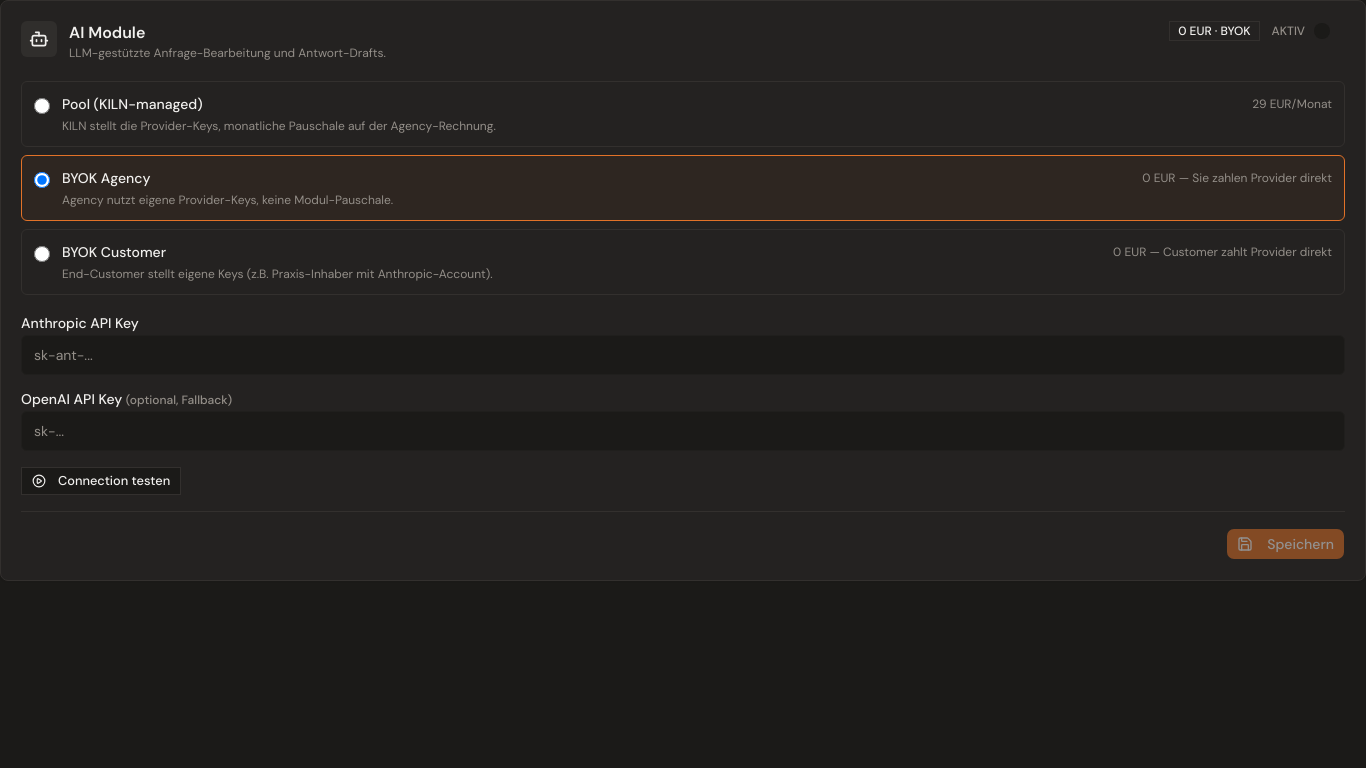
Test case: ModuleCard validation on save › surfaces server error in the UI when POST fails
Type "sk-ant-test" into the password field labelled "Anthropic API Key" at (683, 355), box [21,335,1345,375]
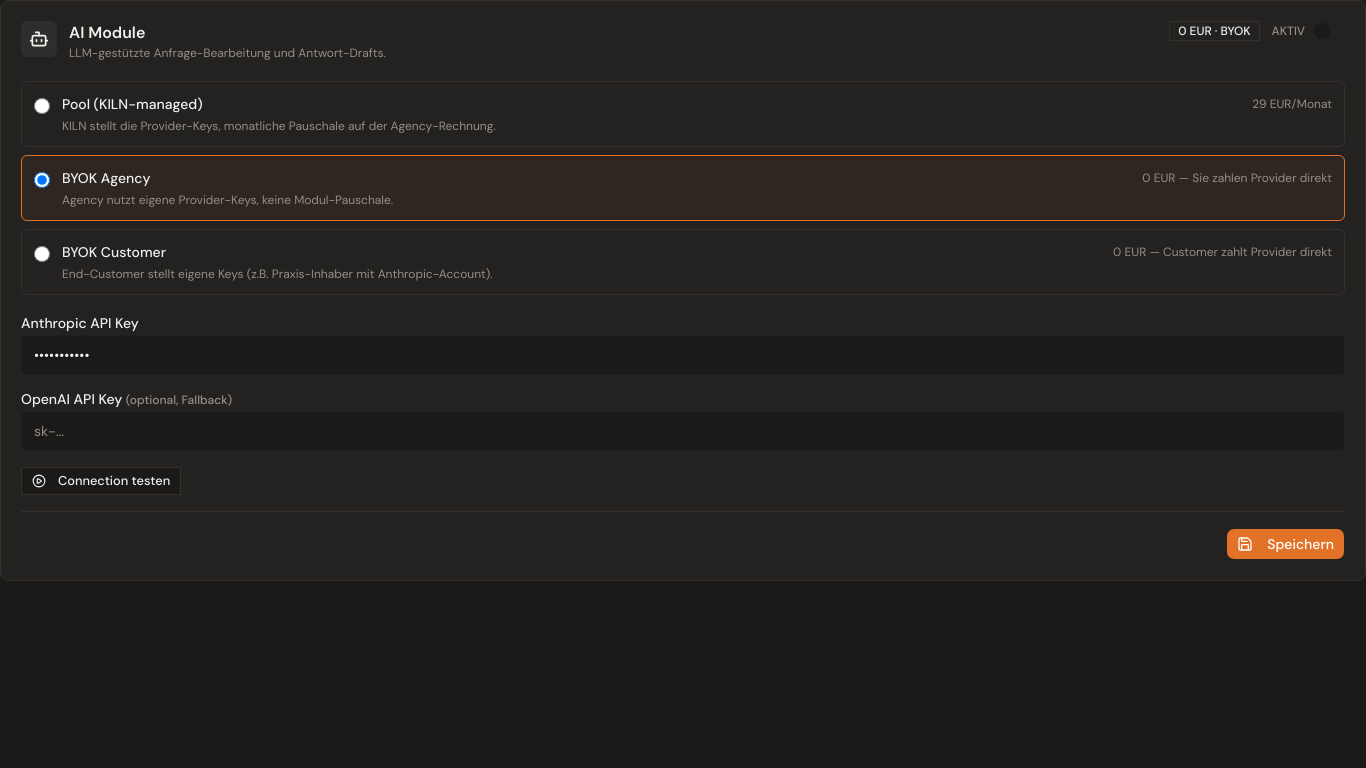
Click the button "Speichern" at (1286, 544), box [1226,528,1345,560]
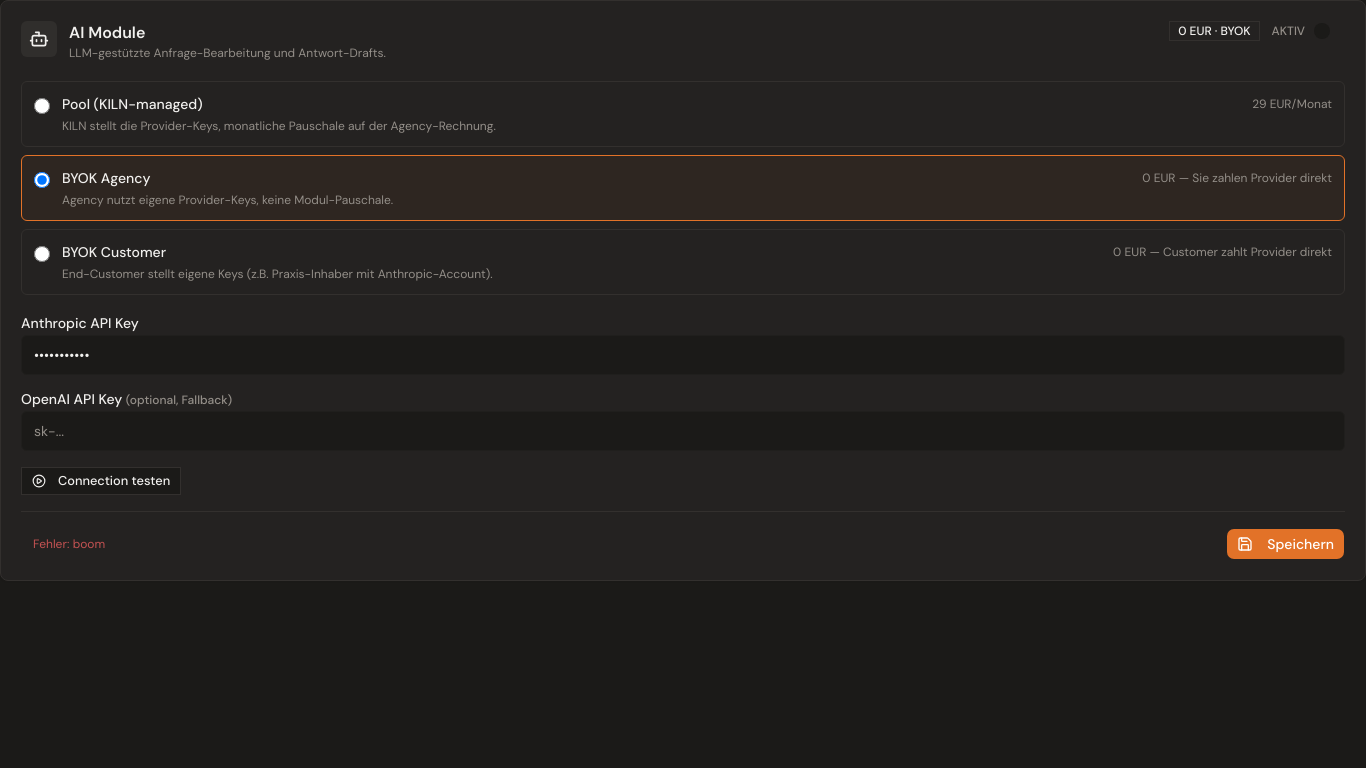
Result: the text "Fehler: boom" is shown at [33,536,105,552]
